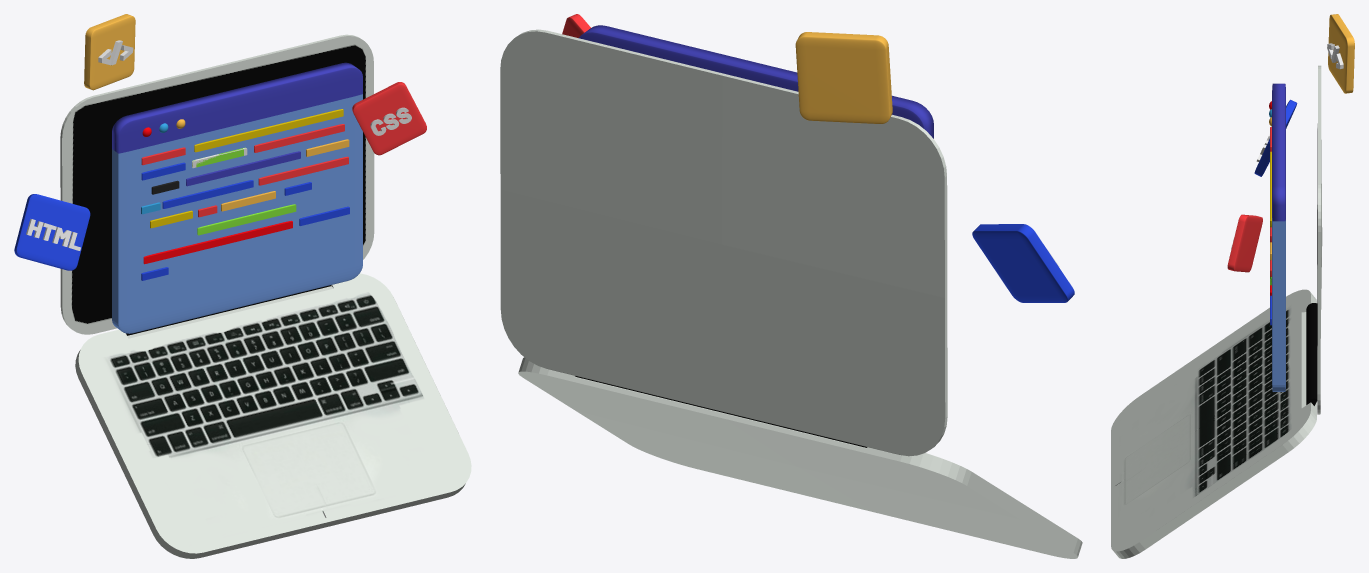
The model's file is graphic-design-assets (4).glb.
The picture shows the model from 3 angles, left to right: view 1: azimuth 30°, elevation 25°; view 2: azimuth 150°, elevation 25°; view 3: azimuth 270°, elevation 25°; orthographic projection. The views are drawn at different scales.
Visible parts, largest first — view 1: computer, Cube, Cube.005, Cube.027, Cube.028, Cube.026, Cube.021, Cube.006, Cube.010, Cube.018, Cube.014, Cube.009 (+2 smaller); view 2: computer, Cube.026, Cube.027, Cube.005; view 3: computer, Cube, Cube.005, Cube.026, Cube.028, Cube.027.
Boxes of the visible parts, bbox=[...] form: computer: bbox=[60, 34, 471, 558]; Cube: bbox=[112, 94, 362, 333]; Cube.005: bbox=[112, 62, 362, 153]; Cube.027: bbox=[14, 194, 90, 270]; Cube.028: bbox=[352, 82, 426, 155]; Cube.026: bbox=[84, 14, 135, 90]; Cube.021: bbox=[143, 220, 292, 264]; Cube.006: bbox=[194, 109, 343, 152]; Cube.010: bbox=[186, 151, 300, 186]; Cube.018: bbox=[197, 204, 296, 235]; Cube.014: bbox=[162, 180, 253, 208]; Cube.009: bbox=[254, 124, 344, 152]; computer: bbox=[500, 29, 1082, 558]; Cube.026: bbox=[795, 32, 892, 123]; Cube.027: bbox=[972, 224, 1074, 302]; Cube.005: bbox=[578, 25, 933, 138]; computer: bbox=[1111, 65, 1322, 558]; Cube: bbox=[1272, 218, 1285, 391]; Cube.005: bbox=[1272, 83, 1285, 221]; Cube.026: bbox=[1328, 14, 1354, 93]; Cube.028: bbox=[1227, 214, 1262, 272]; Cube.027: bbox=[1254, 99, 1297, 176].
Bounding box in the file's own units: 5.36 × 5.87 × 3.04.
Materials: 11 (1 with a texture image).
